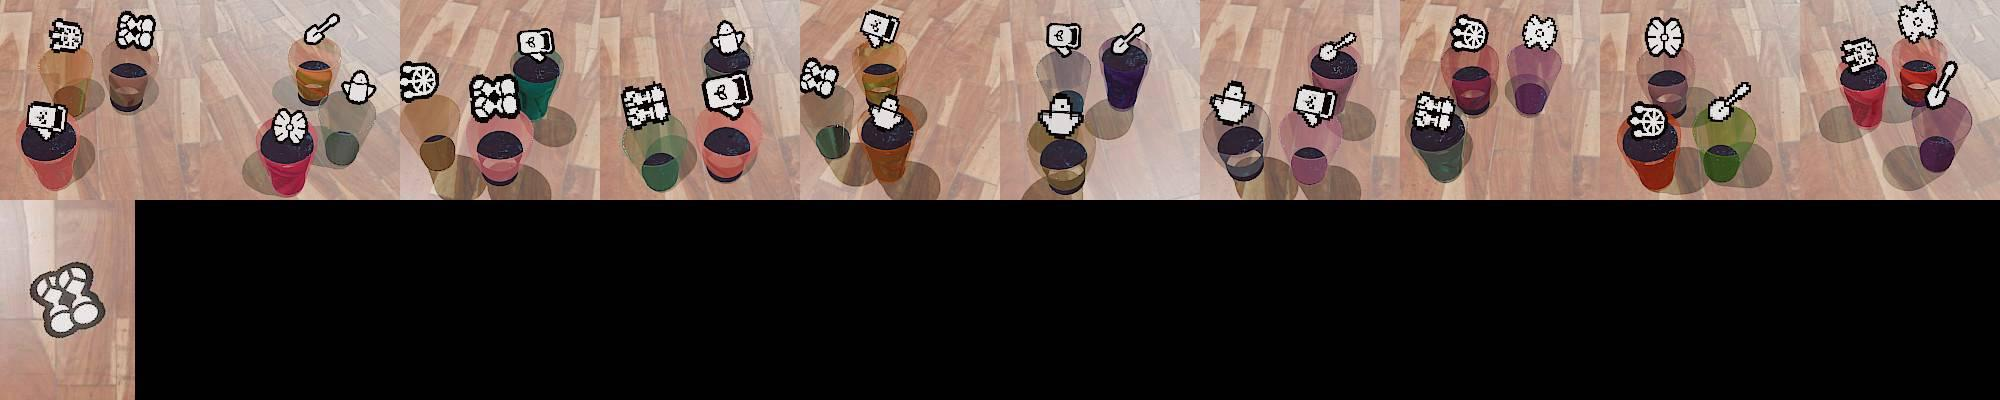icon: (28, 262, 106, 338), (467, 73, 522, 121), (621, 80, 672, 129), (703, 73, 753, 118), (1038, 89, 1085, 136), (1210, 79, 1256, 125), (1292, 83, 1338, 127), (1705, 79, 1751, 122), (1412, 90, 1457, 132), (1898, 1, 1939, 45), (1925, 57, 1958, 110), (115, 10, 157, 51), (1644, 15, 1684, 59), (1628, 99, 1670, 139), (858, 9, 901, 48), (798, 57, 841, 97), (26, 101, 69, 139), (270, 106, 310, 146), (399, 61, 439, 102), (1450, 13, 1490, 54), (1520, 14, 1560, 52), (869, 92, 904, 130), (1841, 36, 1879, 71), (341, 68, 376, 104), (1045, 22, 1082, 57), (709, 20, 747, 55), (48, 17, 83, 54), (304, 11, 339, 46), (1111, 23, 1147, 56), (1320, 31, 1356, 64), (519, 29, 556, 57)
